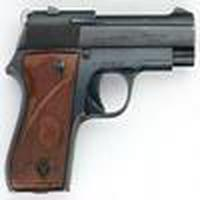gun: (1, 9, 200, 178)
